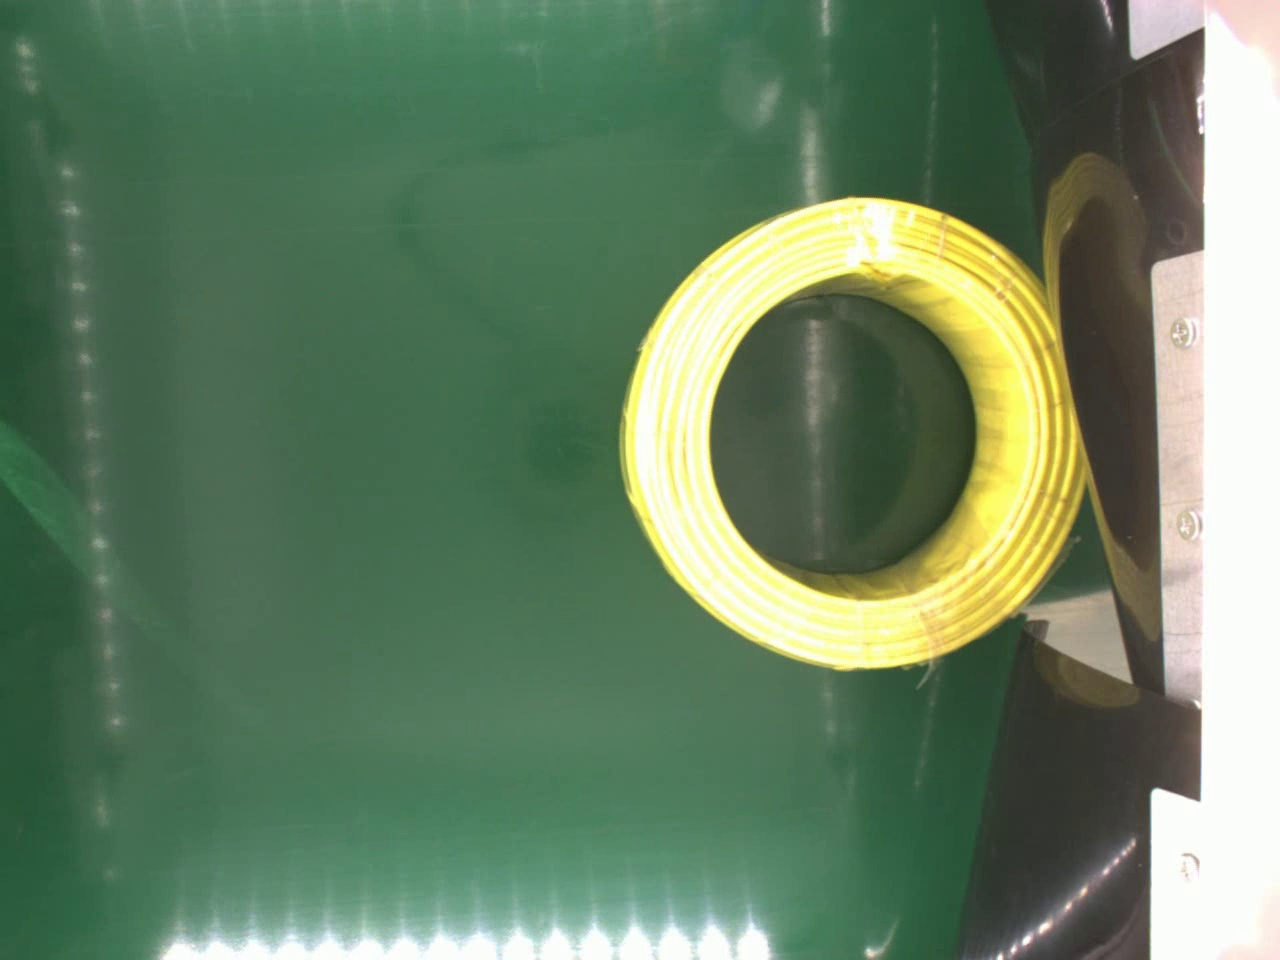yellow: (619, 189, 1079, 672)
